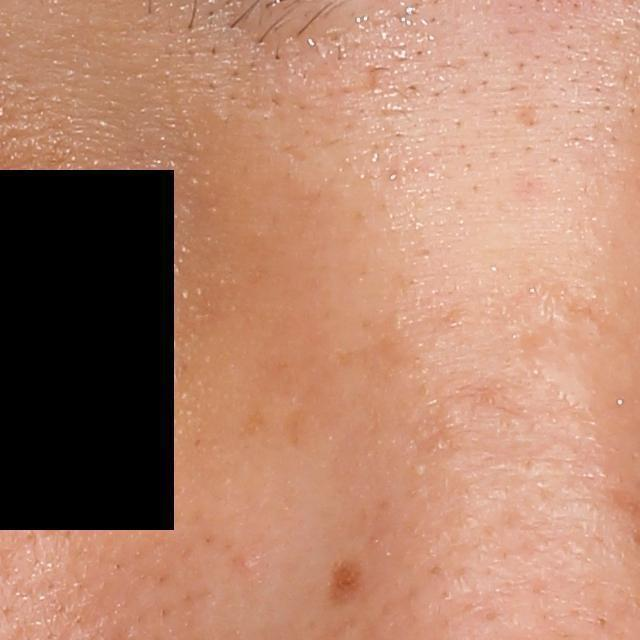atrophic_scar: (514, 99, 537, 130)
comedo: (323, 25, 348, 48), (237, 552, 259, 572)
nevus: (327, 556, 364, 605)
